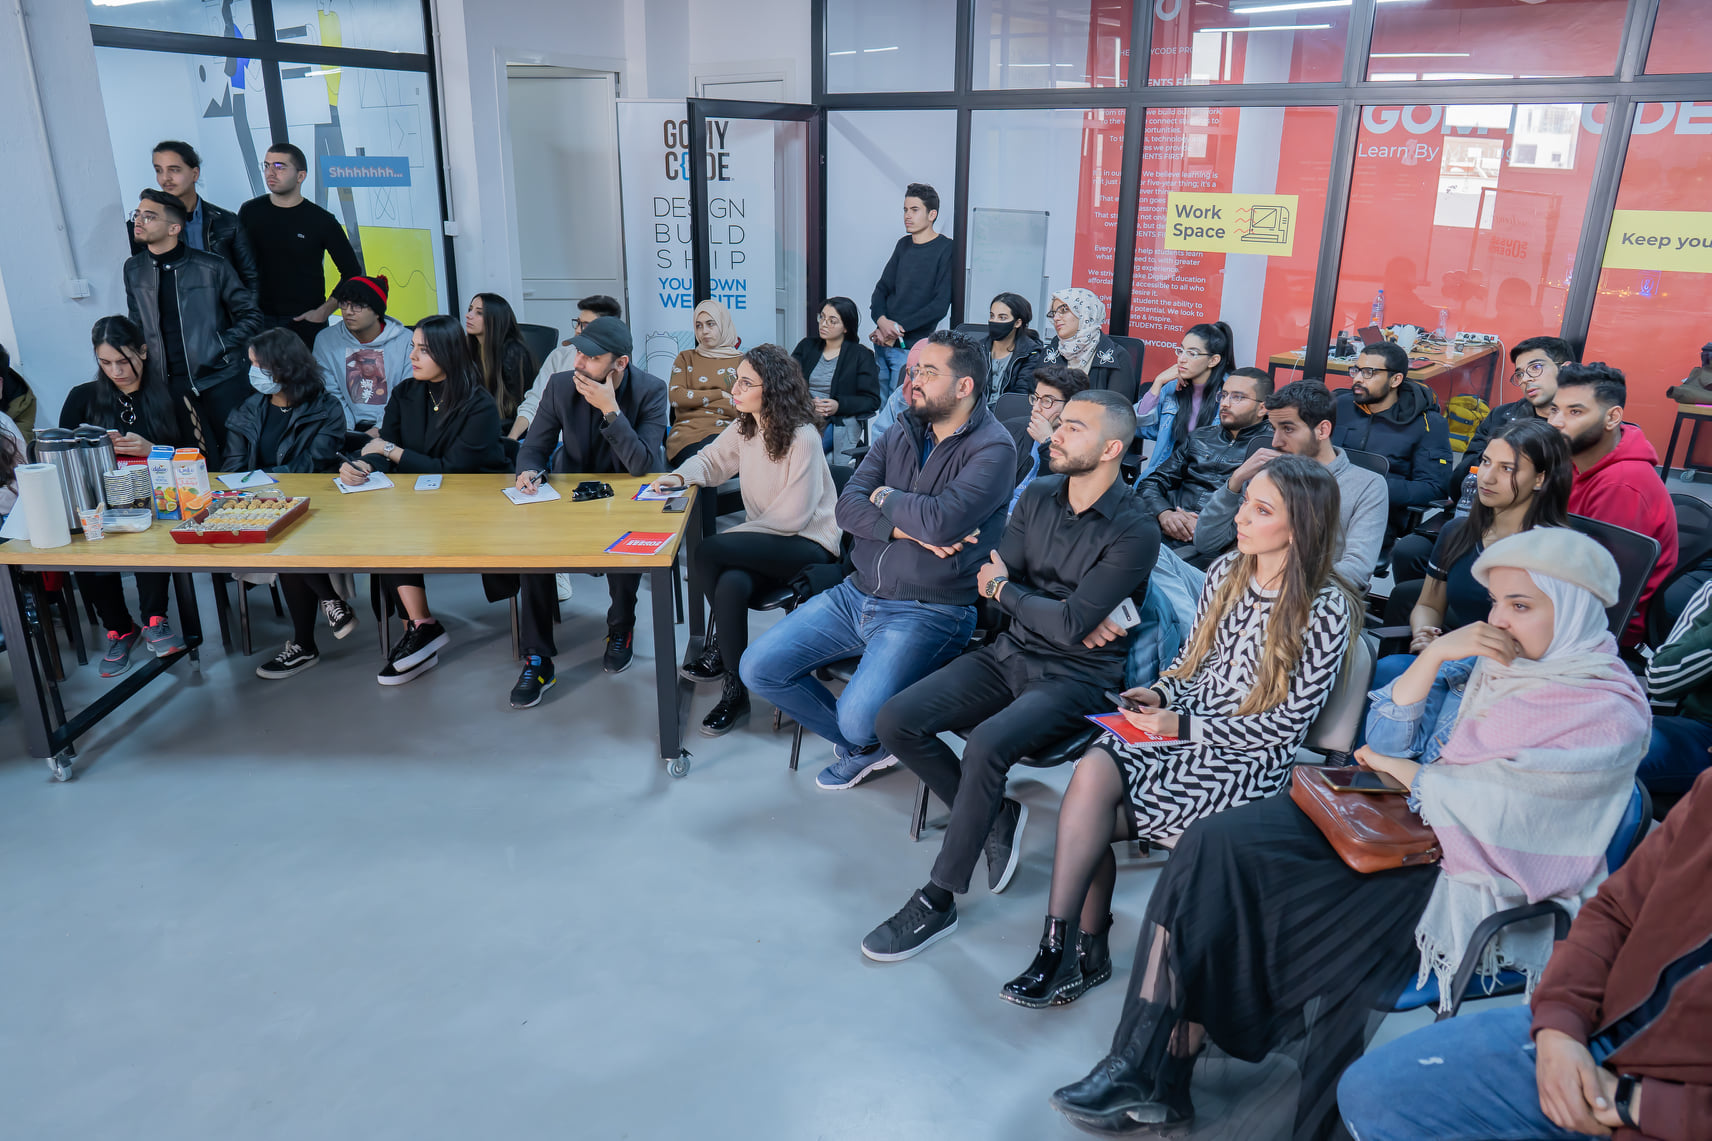without_mask: (1485, 583, 1543, 661), (1048, 409, 1104, 475), (1234, 491, 1284, 557), (1476, 450, 1524, 508), (907, 357, 953, 411), (732, 370, 771, 421), (404, 331, 443, 382), (1215, 387, 1252, 430), (130, 204, 165, 243), (259, 159, 294, 194), (900, 204, 925, 235)
